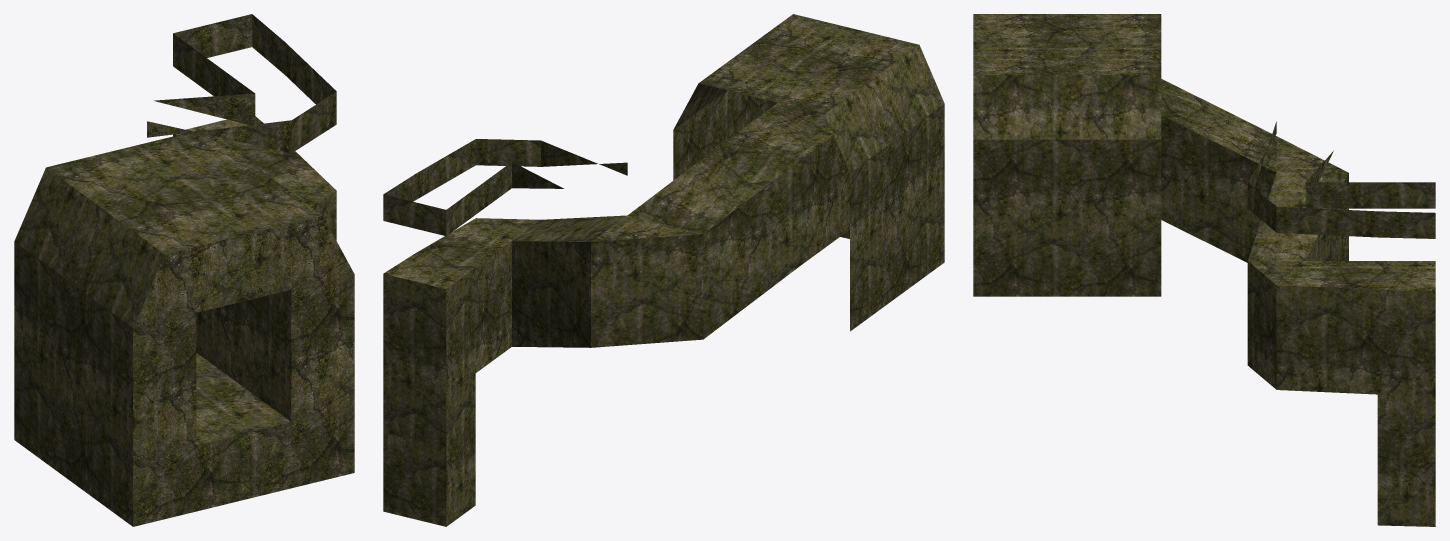
Rendered from caveA.gltf.
The picture shows the model from 3 angles, left to right: view 1: azimuth 30°, elevation 25°; view 2: azimuth 150°, elevation 25°; view 3: azimuth 270°, elevation 25°; orthographic projection. The views are drawn at different scales.
Visible parts, largest first — view 1: caveA; view 2: caveA; view 3: caveA.
Part boxes in pixels (x1=…): caveA: x1=14, y1=14, x2=354, y2=526; caveA: x1=383, y1=14, x2=944, y2=526; caveA: x1=973, y1=14, x2=1435, y2=526.
Size of the model in its own units: 26 by 28 by 32.
Materials: 2 (2 with a texture image).
